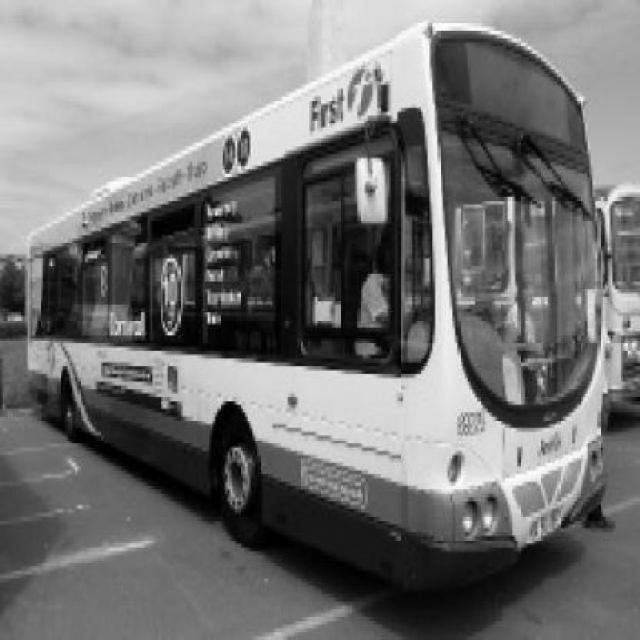Bus: (25, 23, 611, 596)
